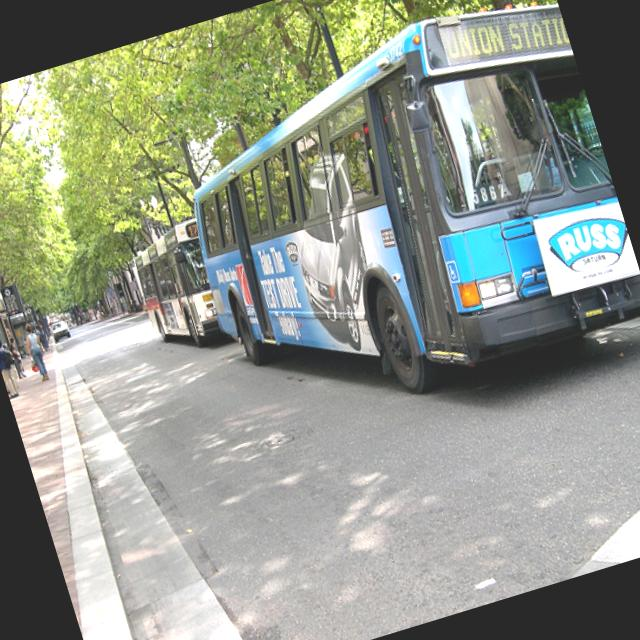Vehicle: (148, 0, 640, 441), (125, 218, 234, 356), (48, 318, 72, 342)
